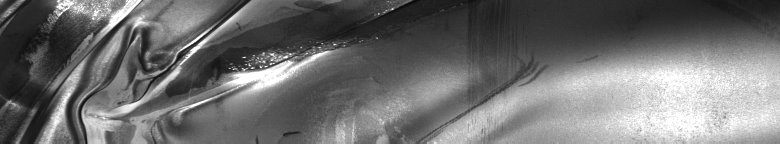ke: (52, 4, 541, 136)
